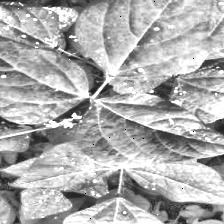Bean Rust: (80, 0, 213, 81), (80, 94, 224, 167), (0, 21, 88, 127), (7, 148, 112, 222), (0, 2, 66, 64), (166, 65, 224, 117), (0, 121, 37, 150), (208, 1, 224, 62)
